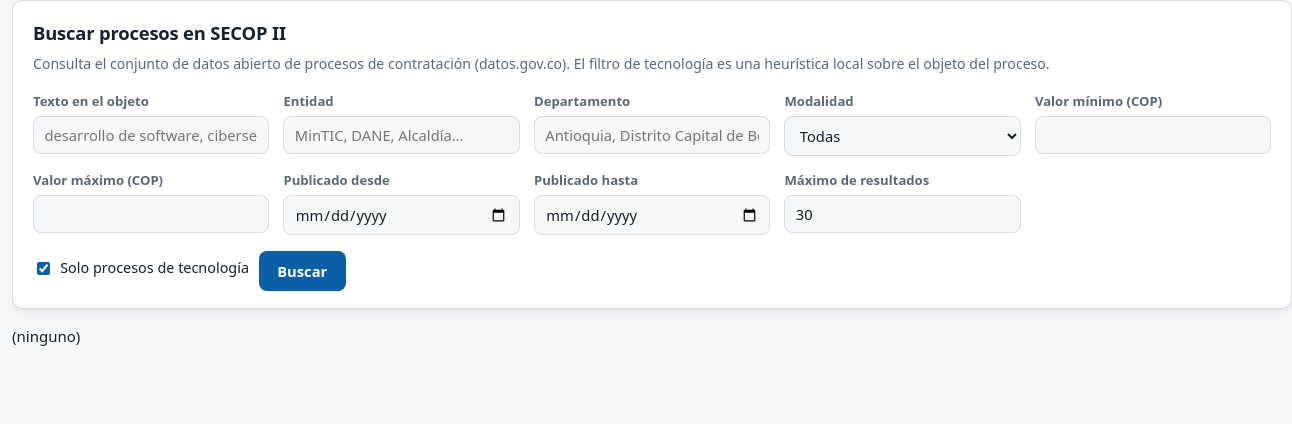
Test: vista Buscar › explica el fallo en vez de dejar la lista en blanco
Step 1. Click the button "Buscar" → x=302, y=271, box x1=259 y1=251 x2=346 y2=291
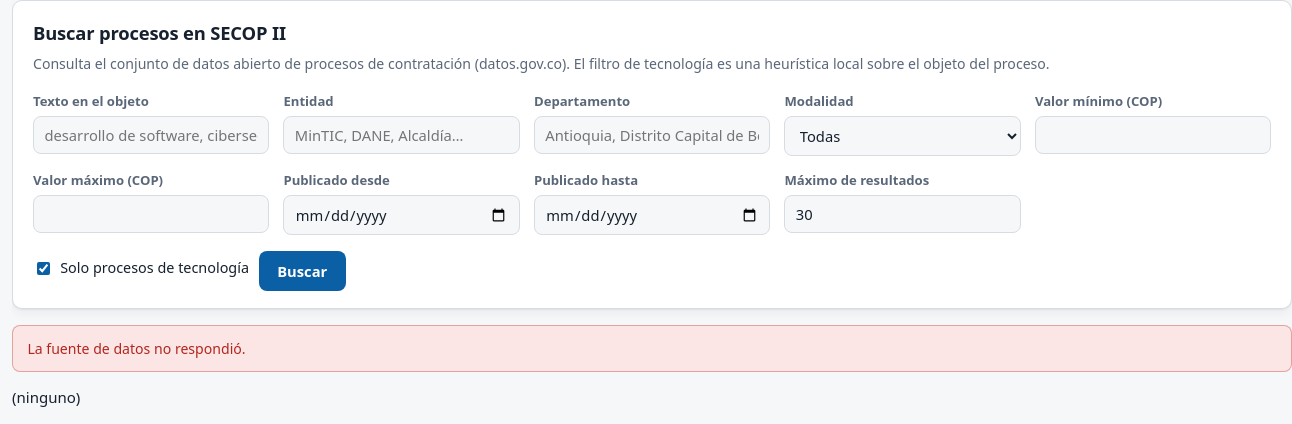
Expected: the message reads "La fuente de datos no respondió.", x1=27 y1=339 x2=246 y2=358
